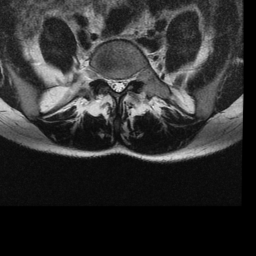CCS_severe_stenosis: (114, 72, 121, 98)
LFS_stenosis: (128, 67, 136, 88)
LLS_normal: (121, 71, 128, 94)
RFS_stenosis: (101, 66, 108, 88)
RLS_normal: (108, 71, 115, 94)
